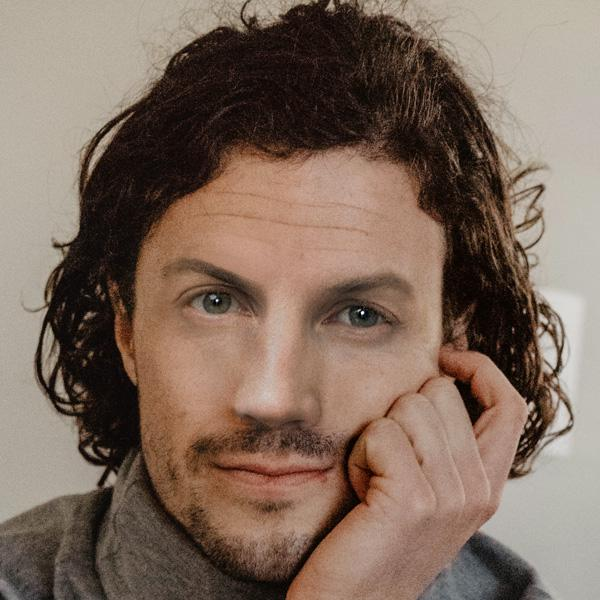Eyes: (166, 274, 266, 334), (314, 286, 400, 345)
